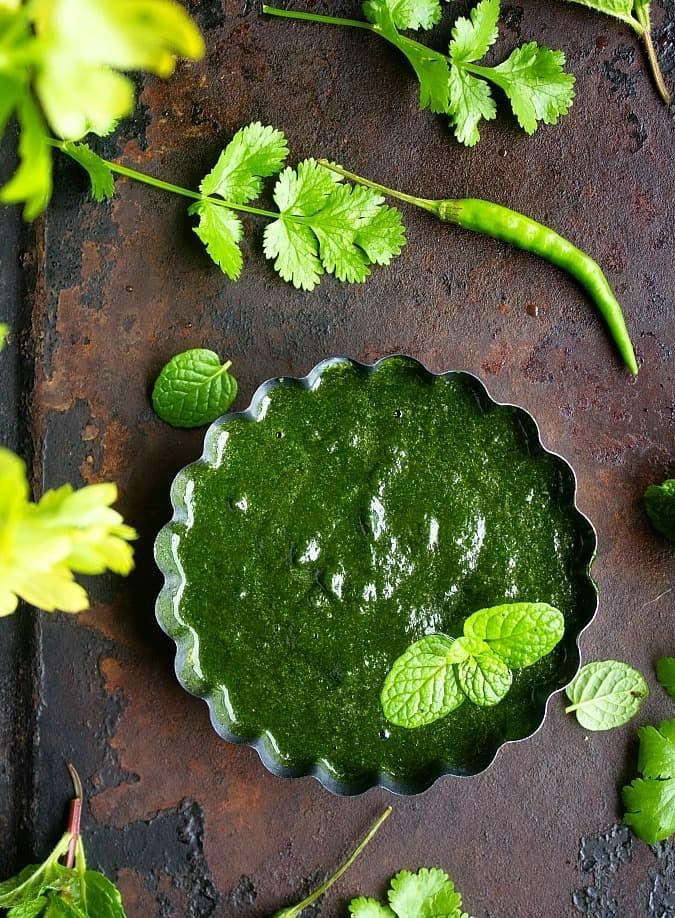GreenChutney: (178, 371, 575, 766)
